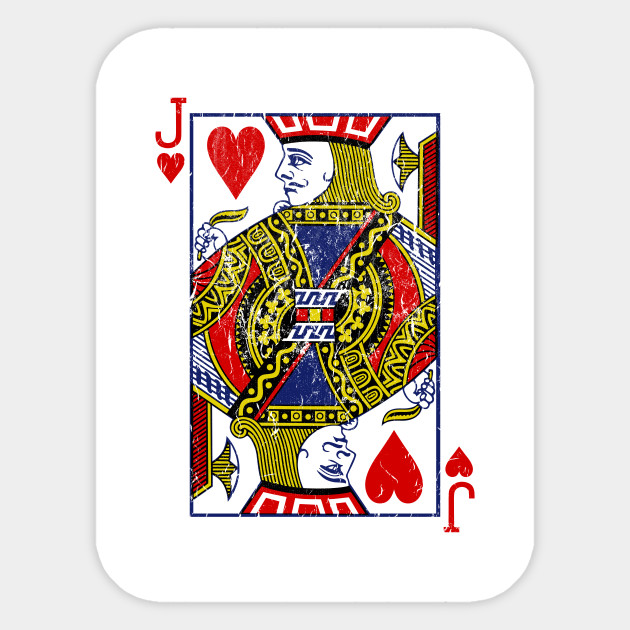jack of hearts: (135, 71, 492, 555)
